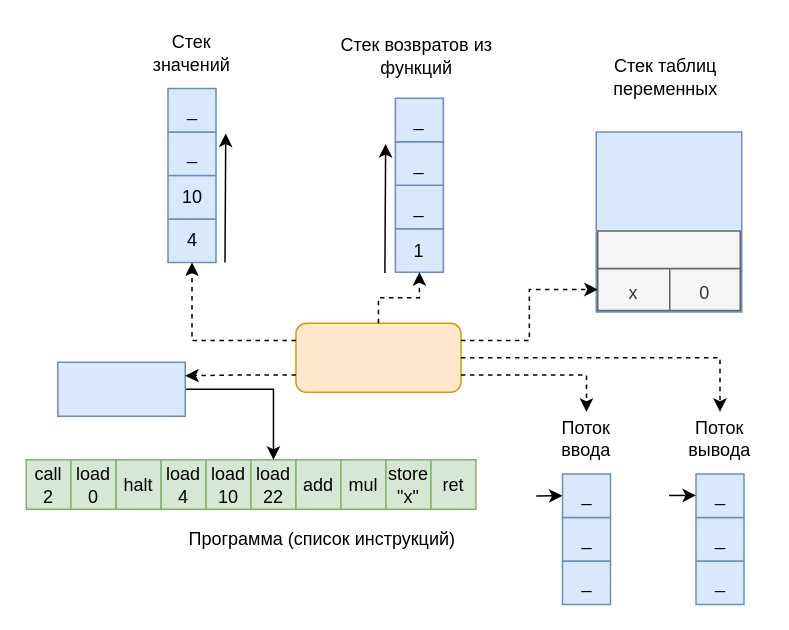
Some shapes in this 789 by 630 pixel diagram are drawn without their labels. The centre of each missing label's shape, as x and y in pixels:
Процессор: (377,357)
Таблица №1: (668,249)
Указатель инструкций: (120,388)
